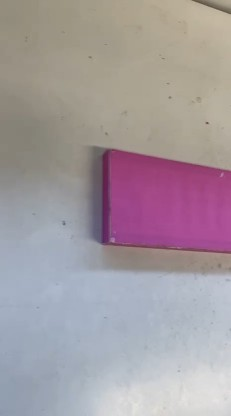pink: (92, 164, 216, 238)
